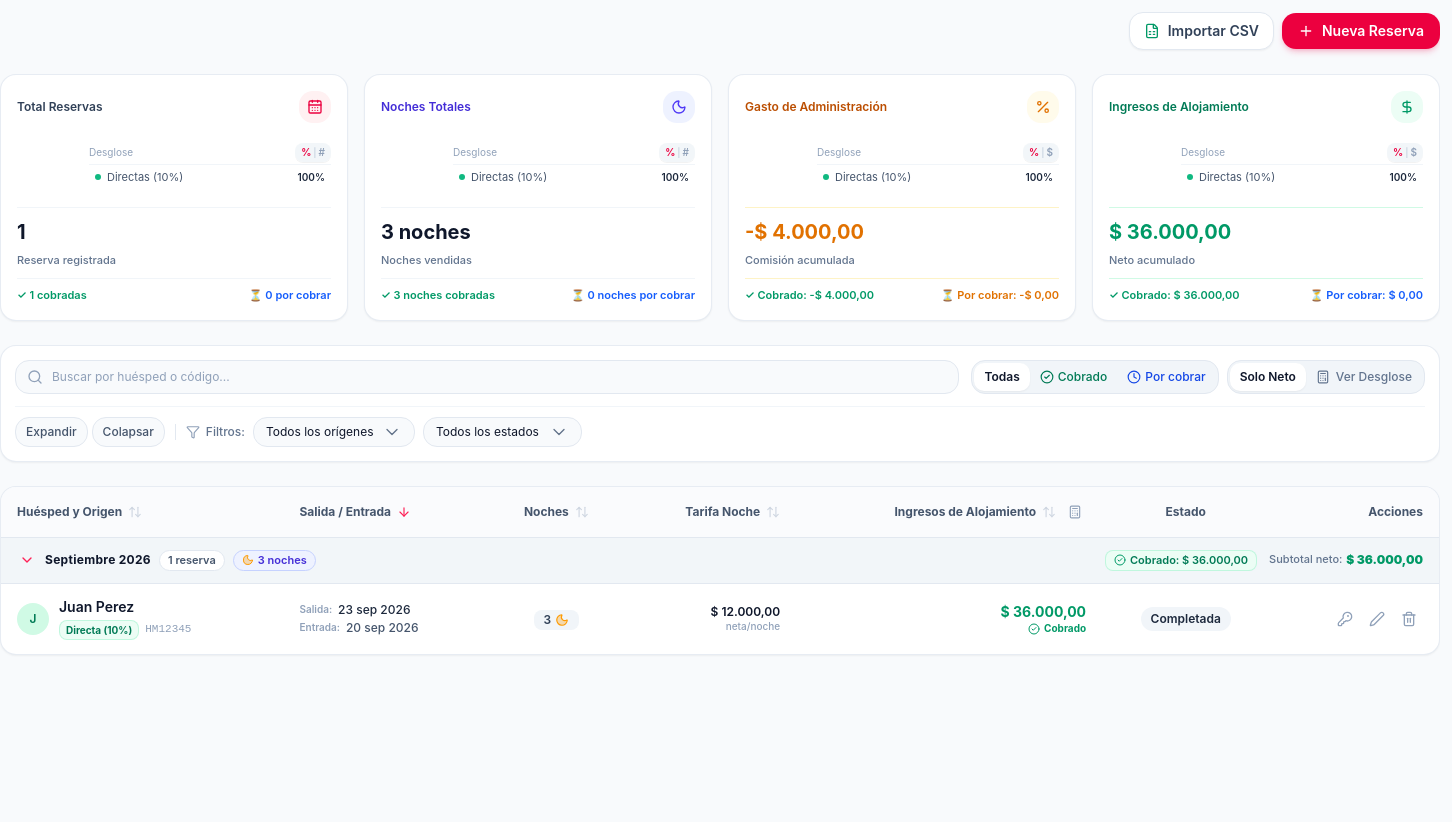
Test: Bookings Route - Revenue Breakdown and Toggle › toggles breakdown for an individual row when clicking the net payout cell
Expected: the text "$ 36.000,00" is shown, [1000,603,1086,620]
What coordinates should you click on to do the following:
click the text "$ 36.000,00"
I would click on:
 (1043, 612)
Its box is [796,584,1102,654].
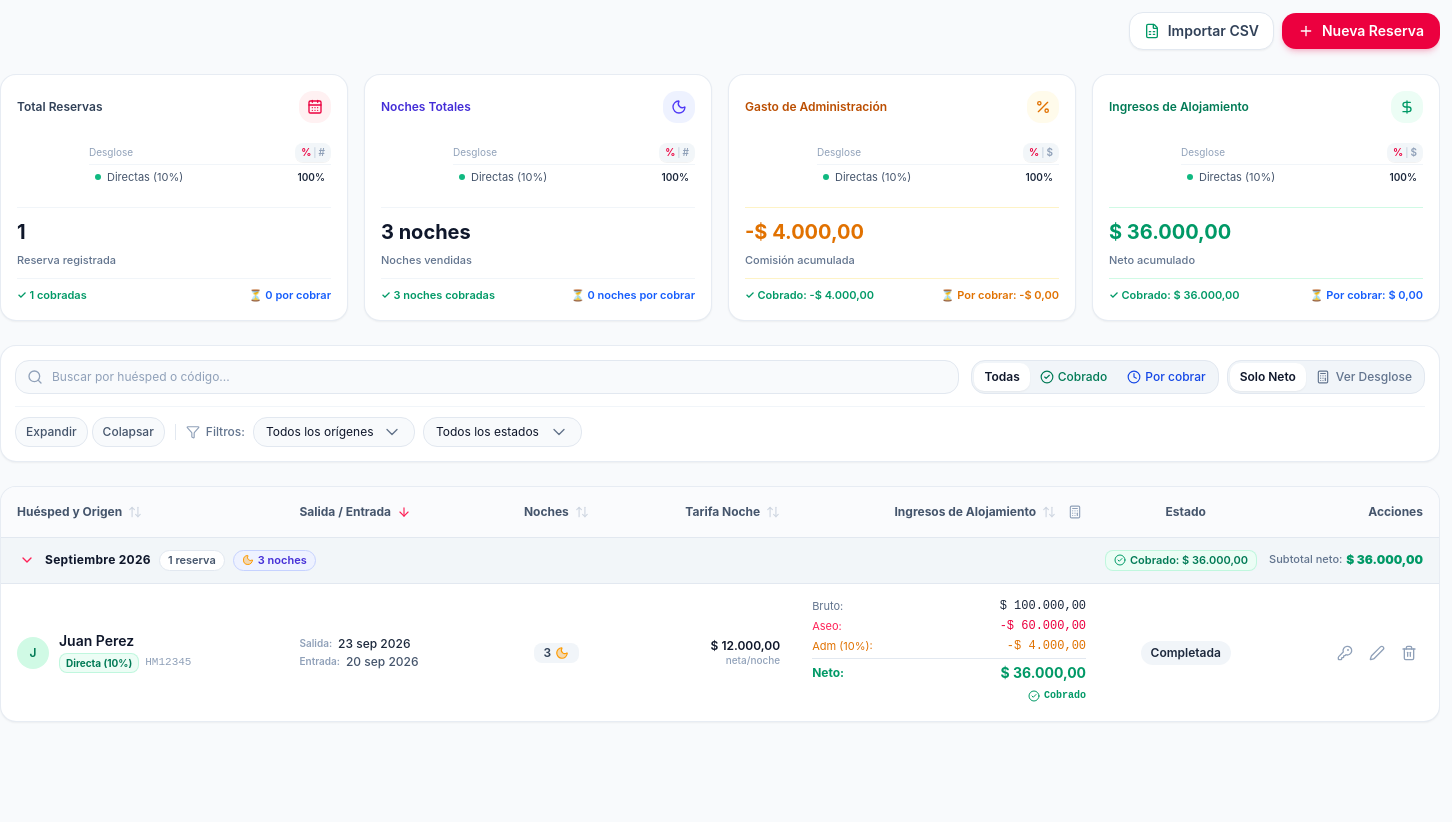
Now the text "Bruto:" is shown, box [812,599,843,614]
Now the text "Aseo:" is shown, box [812,619,842,634]
Now the text "Adm (10%):" is shown, box [812,639,873,654]
